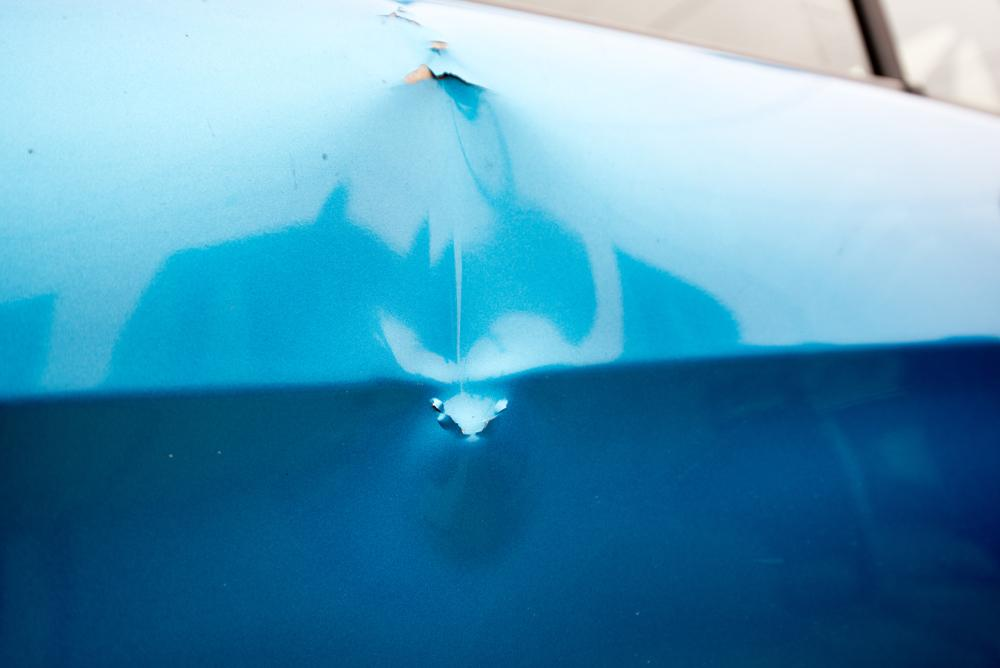dent: (353, 49, 579, 439)
